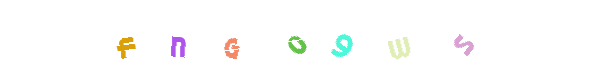9: (263, 0, 343, 80)
F: (85, 0, 165, 80)
G: (257, 0, 337, 80)
N: (184, 0, 264, 80)
O: (262, 0, 342, 80)
S: (338, 0, 418, 80)
W: (303, 0, 383, 80)
